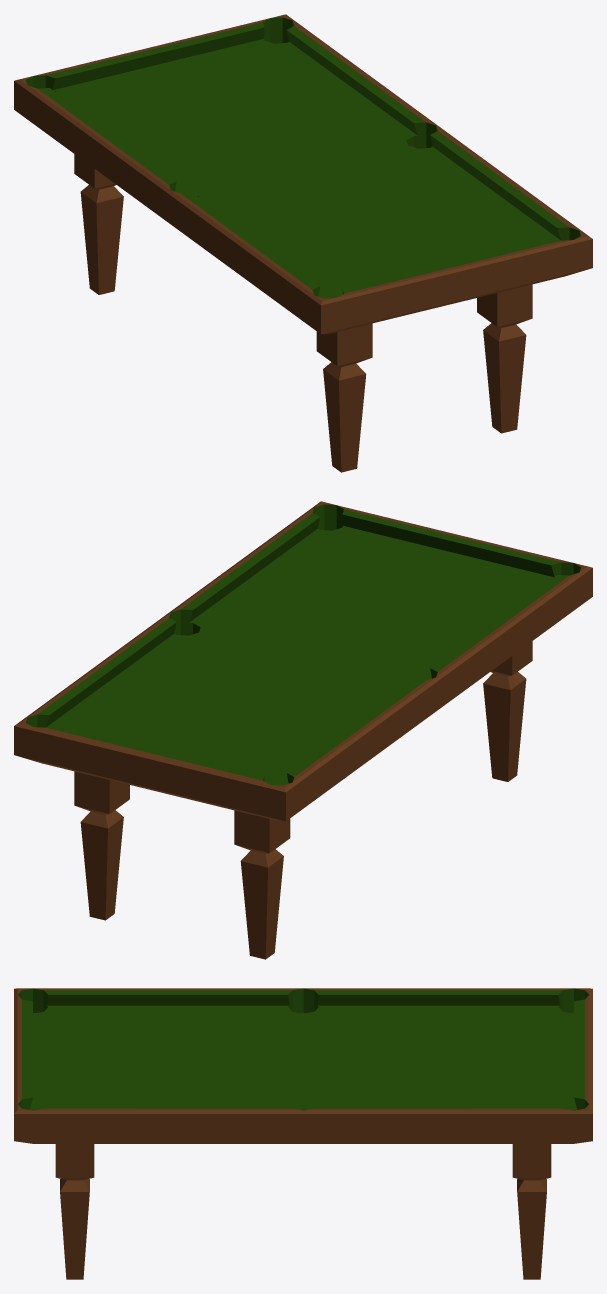
File: PoolTable.fbx
3 views of the same model, one above another, from view 1: azimuth 30°, elevation 25°; view 2: azimuth 150°, elevation 25°; view 3: azimuth 270°, elevation 25° (orthographic). The views are drawn at different scales.
Visible parts, largest first — view 1: PoolTable; view 2: PoolTable; view 3: PoolTable.
Part boxes in pixels (x1,y1,x2,y2): PoolTable: [14, 14, 592, 472]; PoolTable: [14, 501, 592, 959]; PoolTable: [14, 988, 592, 1279].
Bounding box in the file's own units: 120 × 84.86 × 235.
